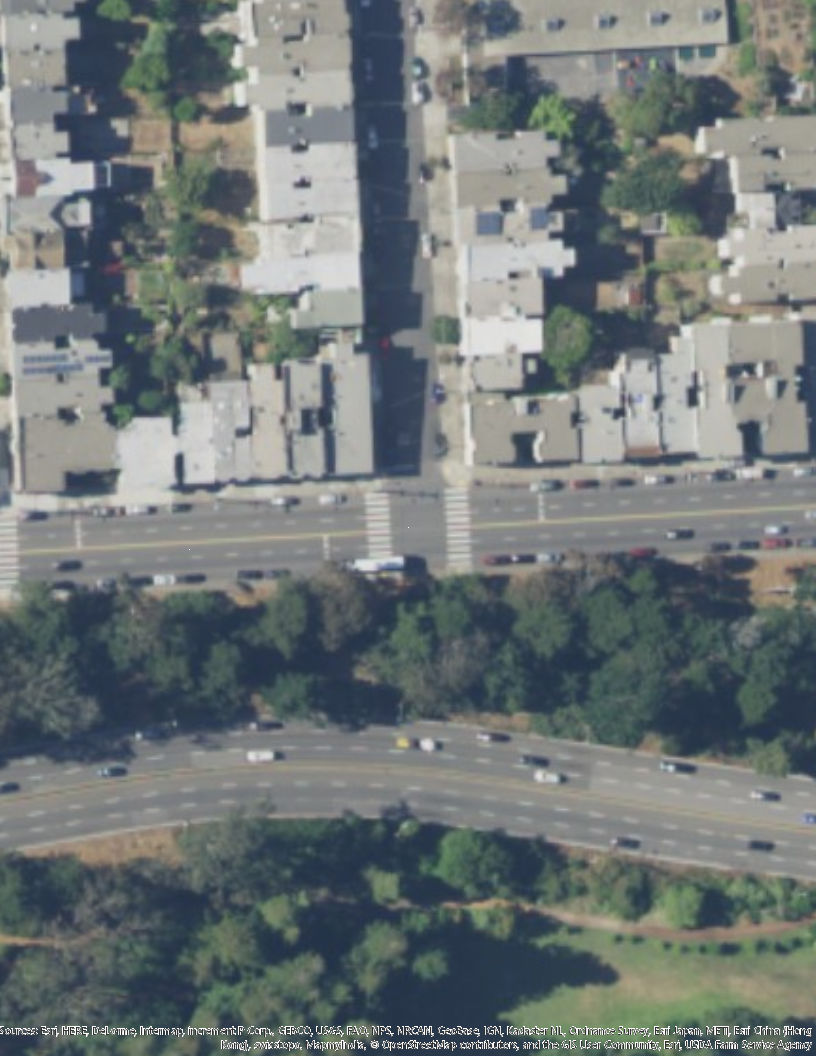zebracross: (443, 488, 473, 572), (367, 491, 394, 562), (1, 512, 19, 589)
